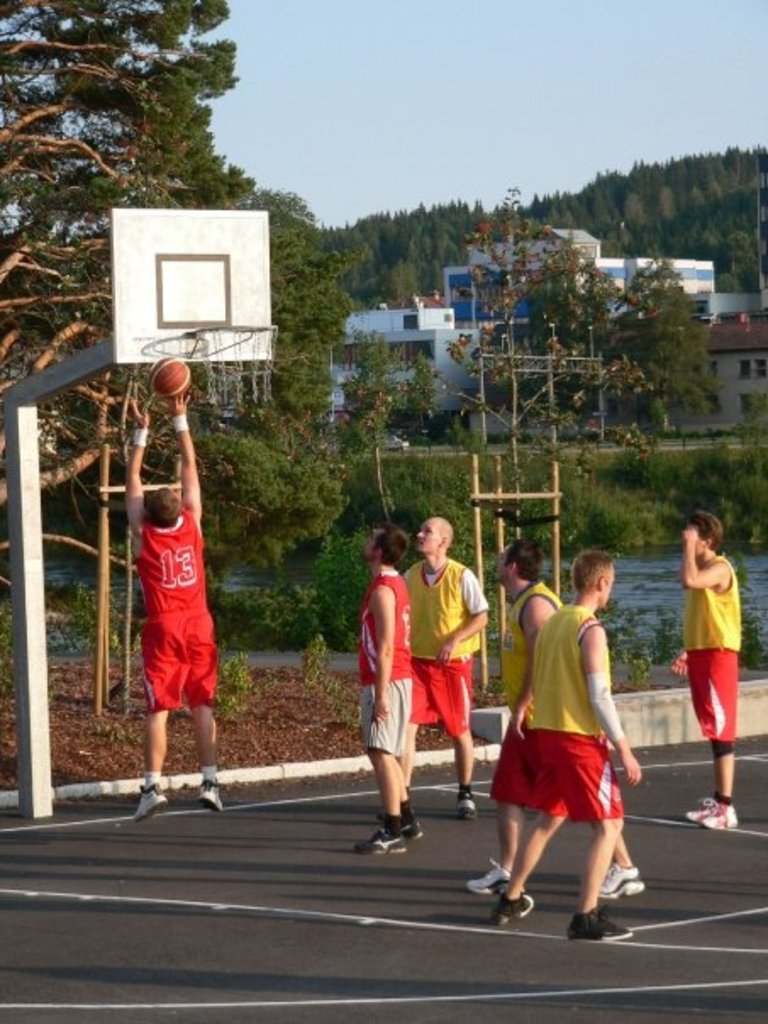Ball: (153, 354, 198, 402)
